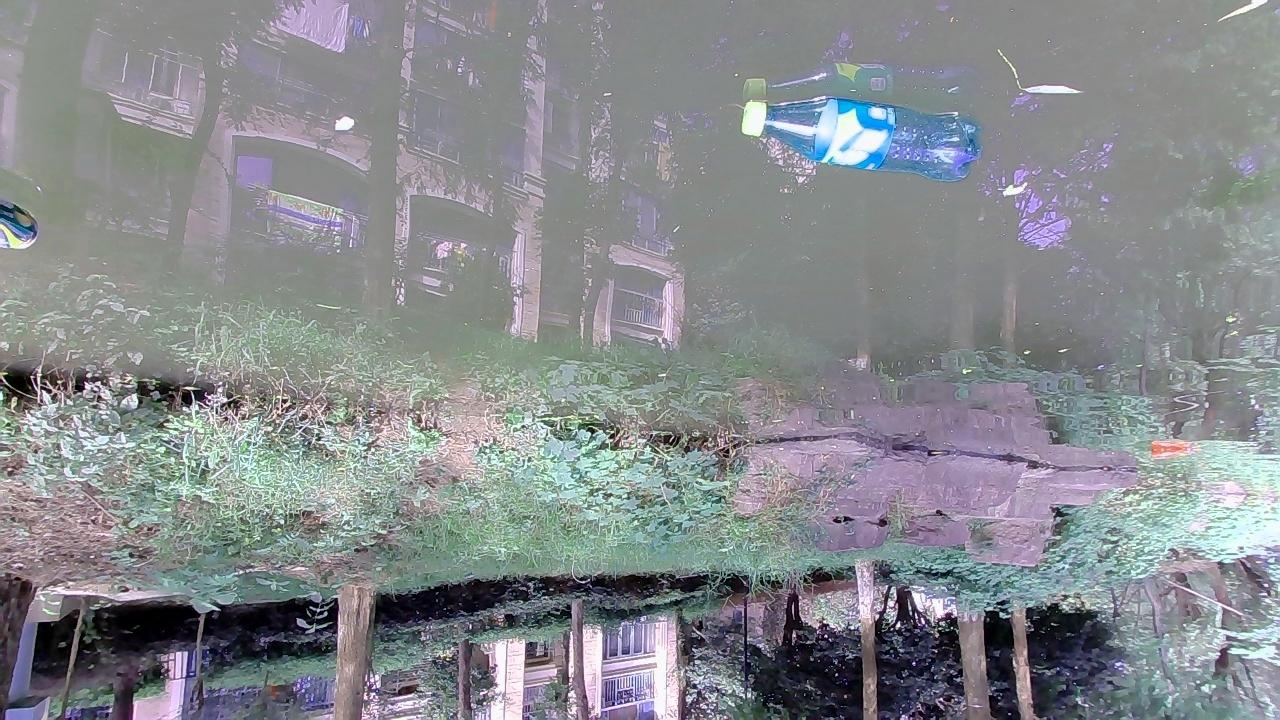Metal: (0, 200, 42, 252)
Plastic: (738, 95, 984, 184)
